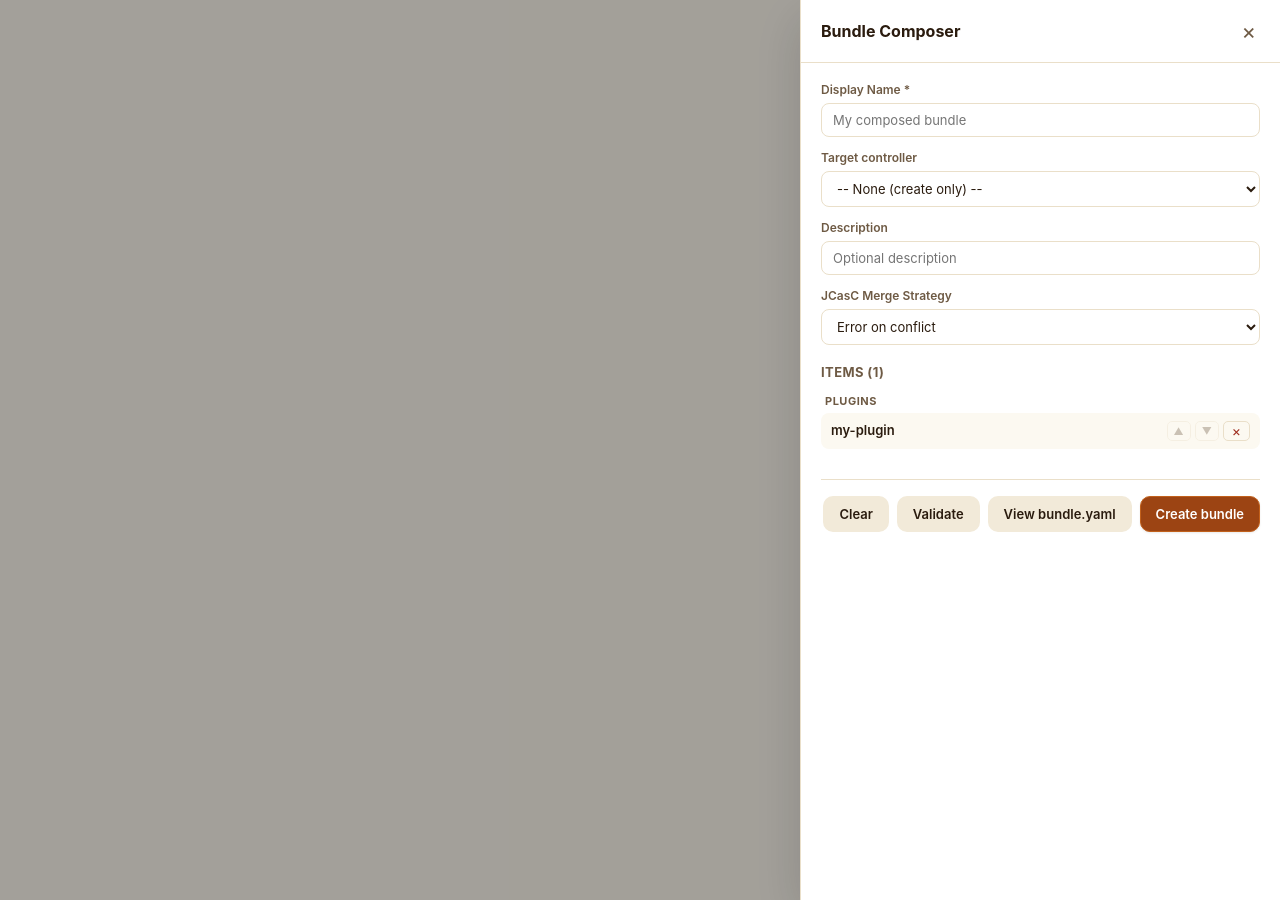
Test: ComposerTray › Preview › shows missing, drifted, and warning banners in preview
Type "My Bundle" into the field with placeholder "My composed bundle" at (1040, 120), box [821, 103, 1260, 137]
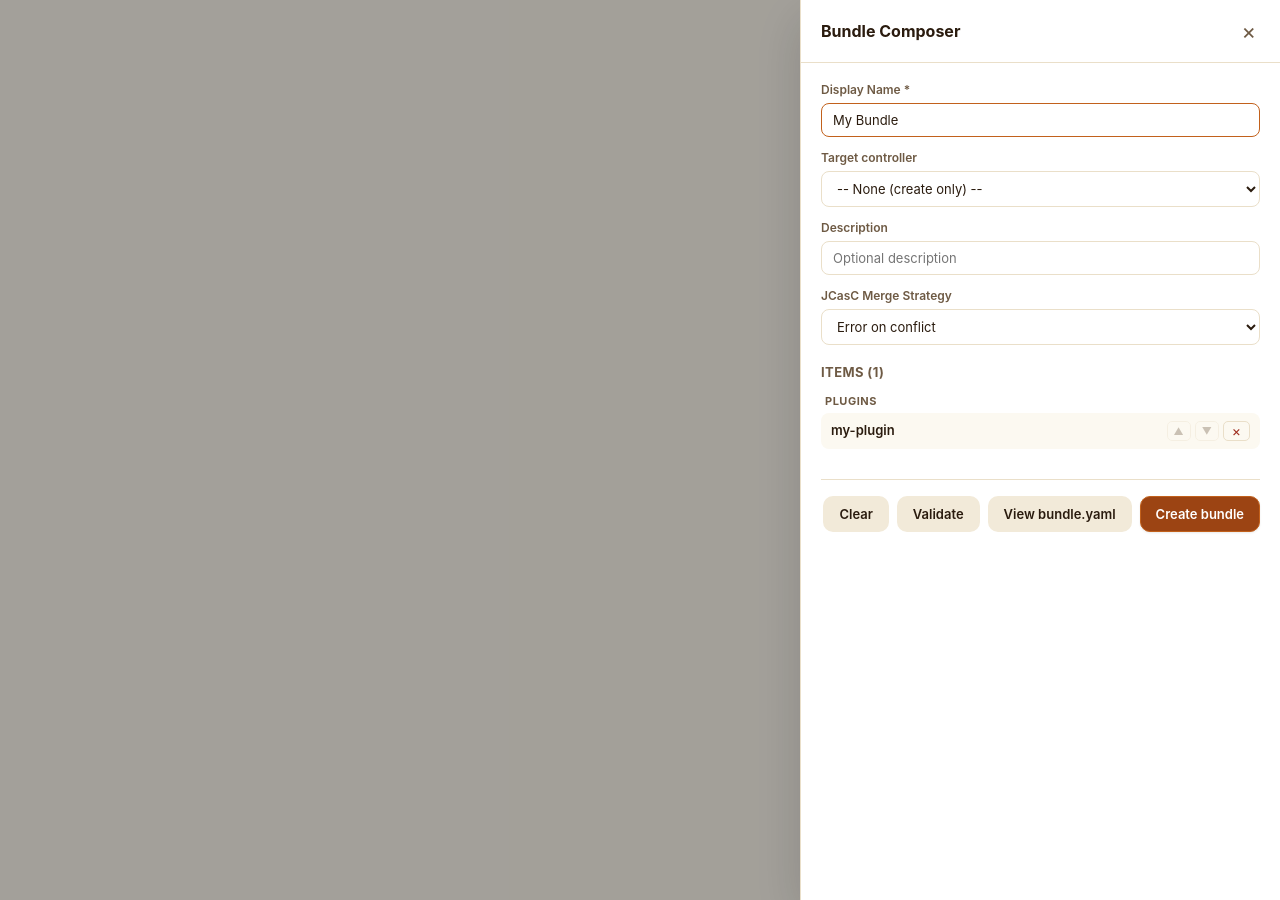
Click the button "View bundle.yaml" at (1060, 514), box [988, 496, 1132, 532]
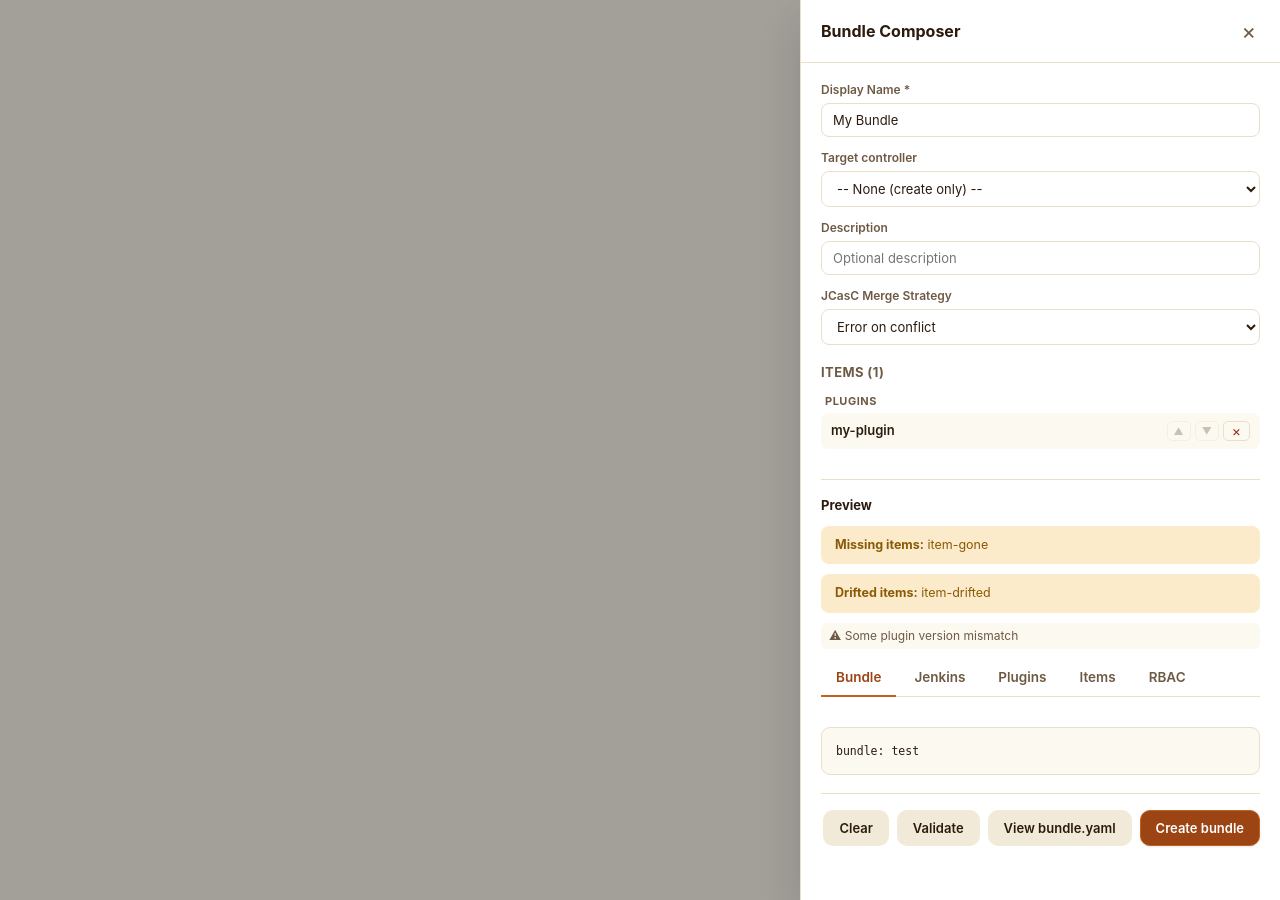
expect the text "Missing items:" is shown: met, box [835, 536, 924, 552]
expect the text "Missing items: item-gone" is shown: met, box [821, 526, 1260, 564]
expect the text "Drifted items:" is shown: met, box [835, 585, 918, 600]
